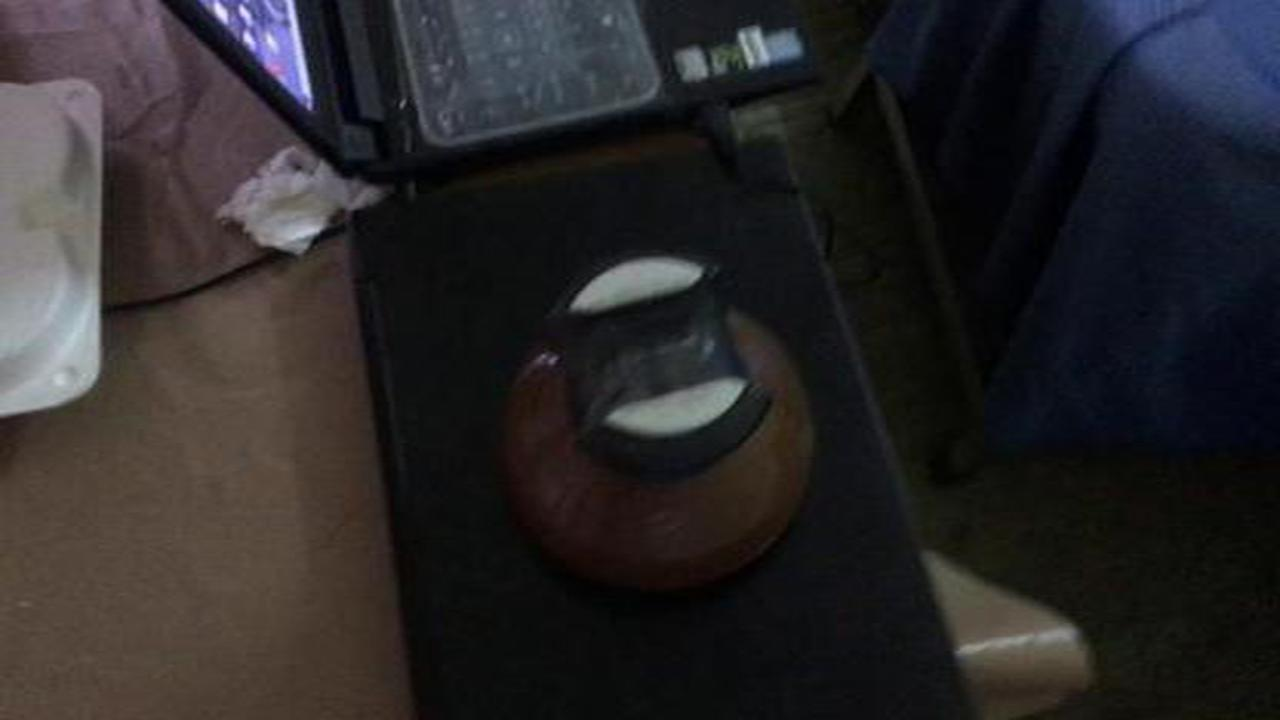insulator_pin: (465, 232, 847, 611)
